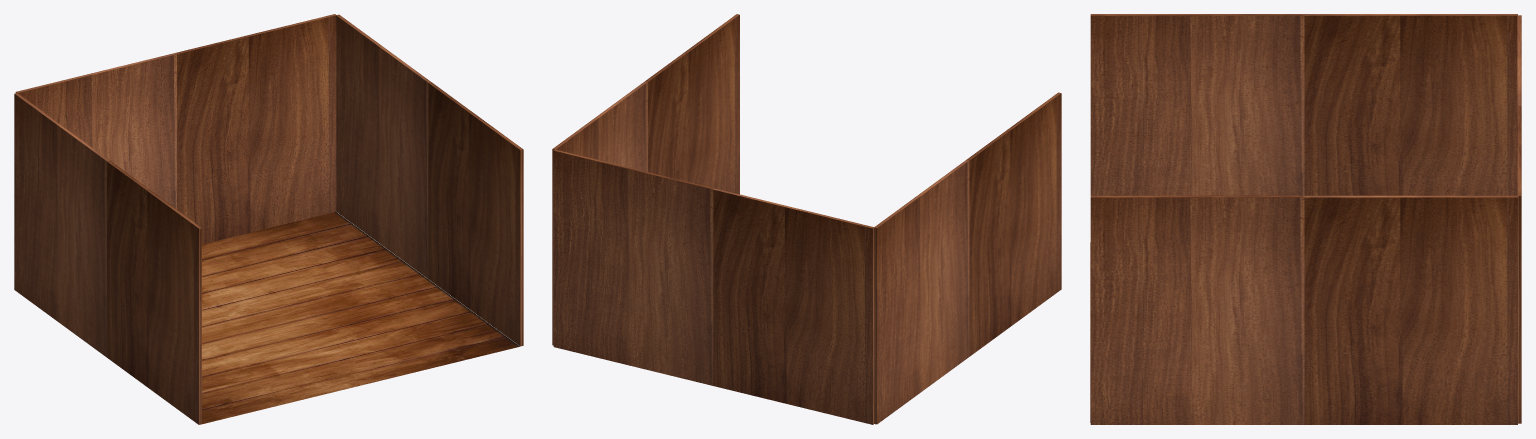
The model's file is ConcertStage.fbx.
The picture shows the model from 3 angles, left to right: view 1: azimuth 30°, elevation 25°; view 2: azimuth 150°, elevation 25°; view 3: azimuth 270°, elevation 25°; orthographic projection. The views are drawn at different scales.
Parts seen in each view (by area): view 1: Cube.003, Plane, Cube, Cube.001; view 2: Cube.003, Cube, Cube.001; view 3: Cube.001, Cube, Cube.003.
Boxes of the visible parts, bbox=[...] form: Cube.003: bbox=[15, 14, 336, 244]; Plane: bbox=[202, 212, 519, 424]; Cube: bbox=[14, 93, 201, 424]; Cube.001: bbox=[336, 14, 523, 346]; Cube.003: bbox=[553, 149, 874, 424]; Cube: bbox=[874, 92, 1061, 424]; Cube.001: bbox=[552, 14, 739, 345]; Cube.001: bbox=[1090, 195, 1517, 424]; Cube: bbox=[1090, 14, 1517, 195]; Cube.003: bbox=[1517, 15, 1521, 423].
Bounding box in the file's own units: 2120 × 1225 × 2105.
Materials: 2 (2 with a texture image).
